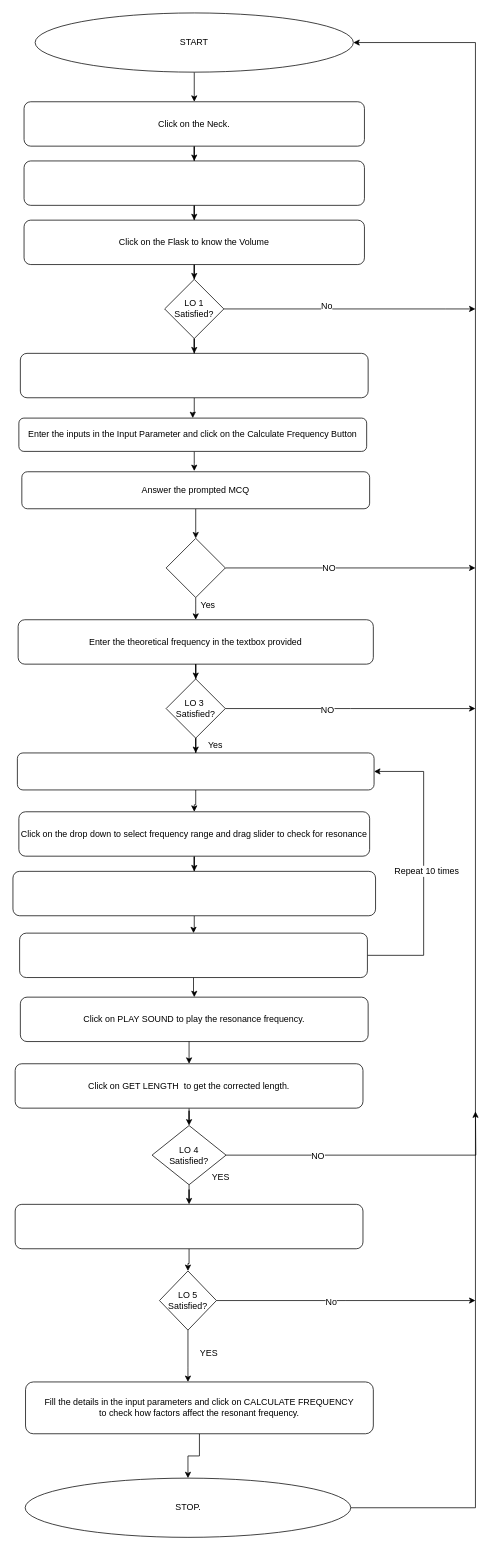
The diagram is 495 pixels wide and 1550 high, and some of its shapes have lost their labels. Each missing label, with the box of its shape:
Click on ADD OBSERVATIONS.: (19, 932, 367, 978)
Click on PLOT GRAPH to plot the graph of the observation table given: (14, 1204, 363, 1249)
Click on the Neck Area.: (23, 160, 364, 205)
Click the stop cock to start the volume drain: (17, 752, 374, 790)
Enter the volume gap and click on CLICK TO SET VOLGAP.: (20, 353, 368, 398)
LO 2 Satisfied?: (165, 538, 225, 598)
Play Sound by tapping the speaker button and identify the wave form: (12, 871, 376, 916)
